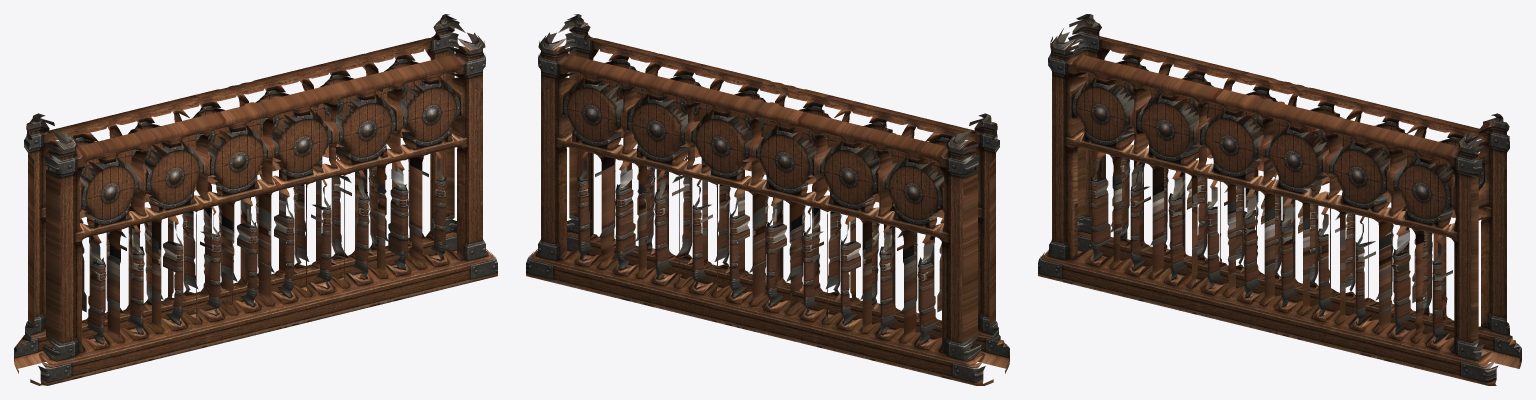
The model's file is v4-armory-scatter-weapon-rack.glb.
3 renders of one model, left to right at view 1: azimuth 30°, elevation 25°; view 2: azimuth 150°, elevation 25°; view 3: azimuth 330°, elevation 25°, orthographic.
Visible parts, largest first — view 1: v4-armory-scatter-weapon-rack; view 2: v4-armory-scatter-weapon-rack; view 3: v4-armory-scatter-weapon-rack.
Boxes of the visible parts, x1,y1,x2,y2 form: v4-armory-scatter-weapon-rack: (14, 14, 497, 385); v4-armory-scatter-weapon-rack: (526, 14, 1009, 385); v4-armory-scatter-weapon-rack: (1038, 14, 1521, 385).
Size of the model in its own units: 1.89 by 0.9747 by 0.24.
1 material, 1 textured.
